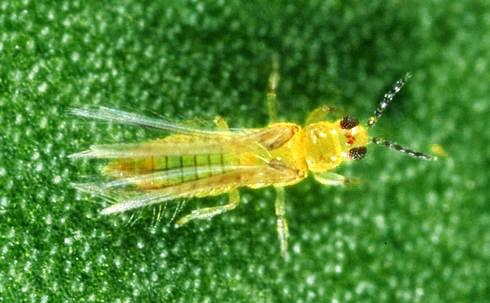Thripidae: (64, 62, 439, 256)
